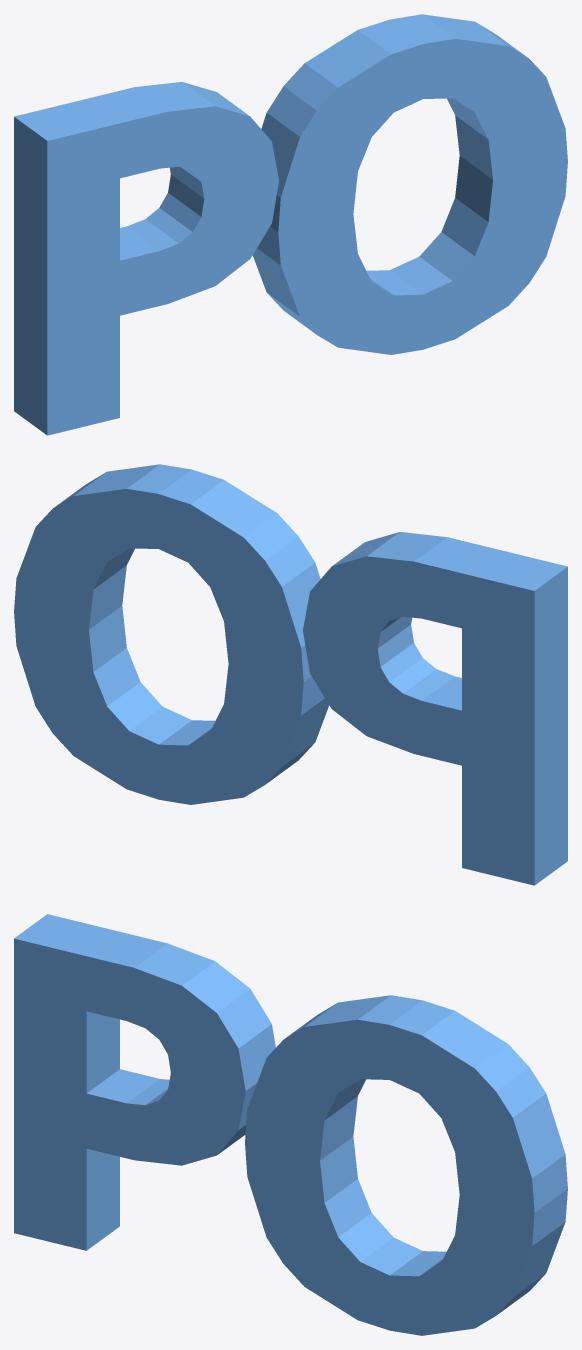
File: suku_besar_po.glb
The picture shows the model from 3 angles, top to bottom: view 1: azimuth 30°, elevation 25°; view 2: azimuth 150°, elevation 25°; view 3: azimuth 330°, elevation 25°; orthographic projection.
Visible parts, largest first — view 1: geometry_0; view 2: geometry_0; view 3: geometry_0.
Boxes of the visible parts, x1,y1,x2,y2 form: geometry_0: (14, 14, 567, 435); geometry_0: (14, 464, 567, 885); geometry_0: (14, 914, 567, 1335).
Bounding box in the file's own units: 13.48 × 7.56 × 1.5.
